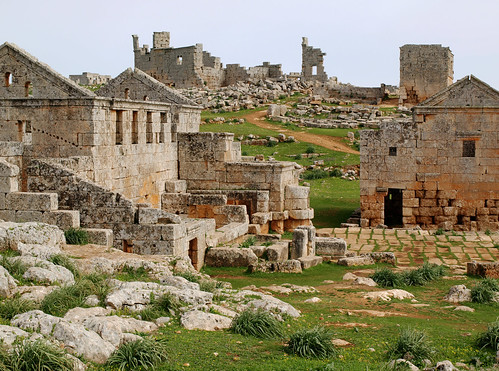building: (1, 57, 345, 256), (350, 72, 499, 237), (135, 18, 391, 98)
rocks: (1, 228, 257, 371)
sky: (1, 1, 498, 39)
